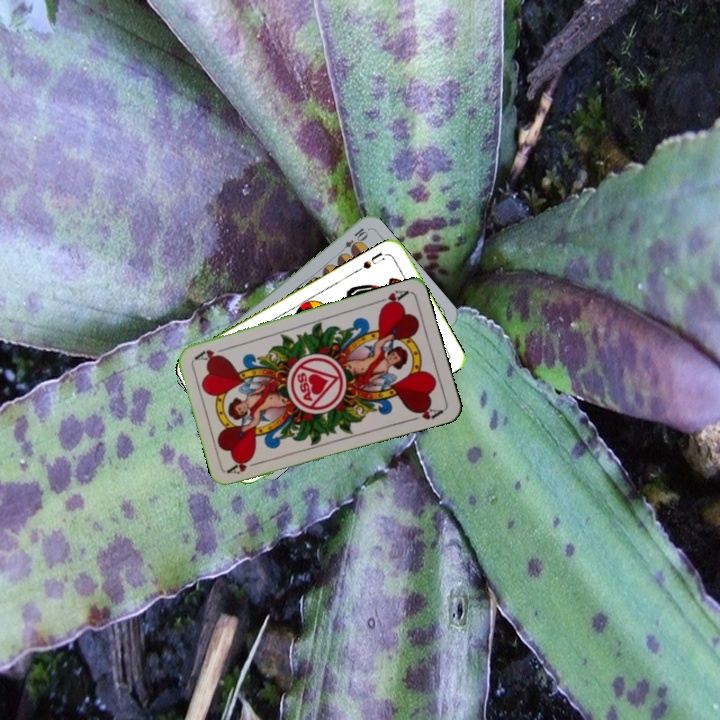E10: (335, 224, 370, 257)
HA: (371, 286, 411, 312), (224, 455, 265, 477)
SU: (353, 248, 387, 274)
